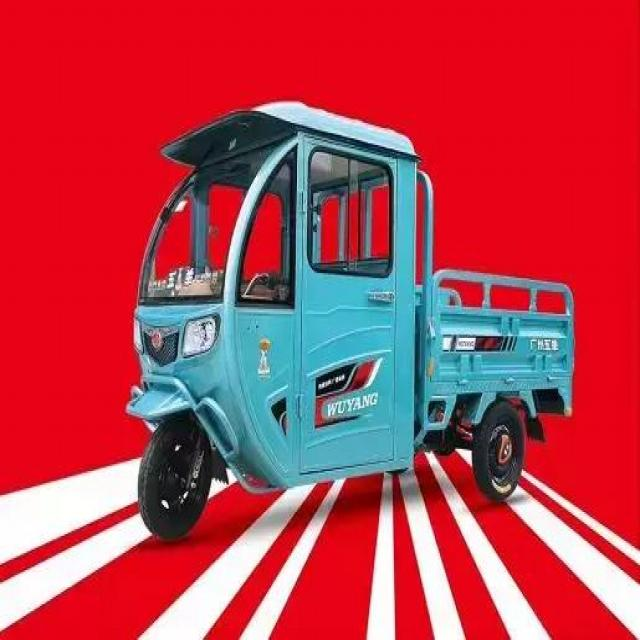tricycle: (120, 94, 576, 537)
